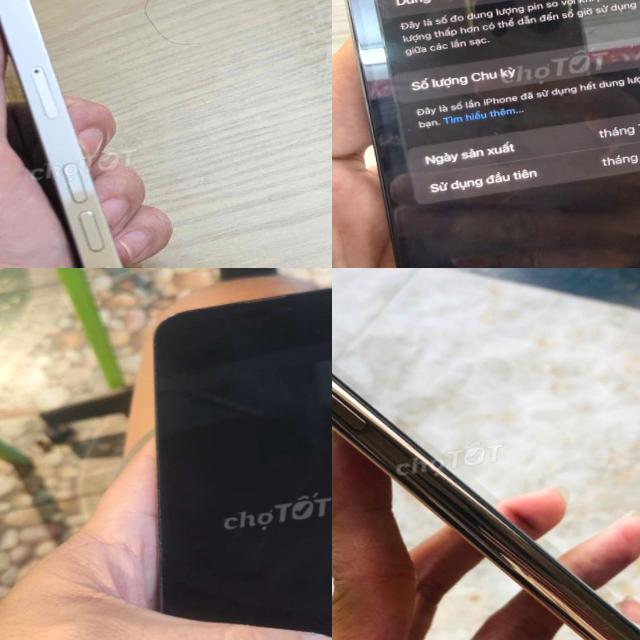gen_11: (332, 268, 640, 640)
gen_14: (117, 271, 332, 640), (0, 0, 211, 268)
gen_15: (332, 0, 640, 268)
